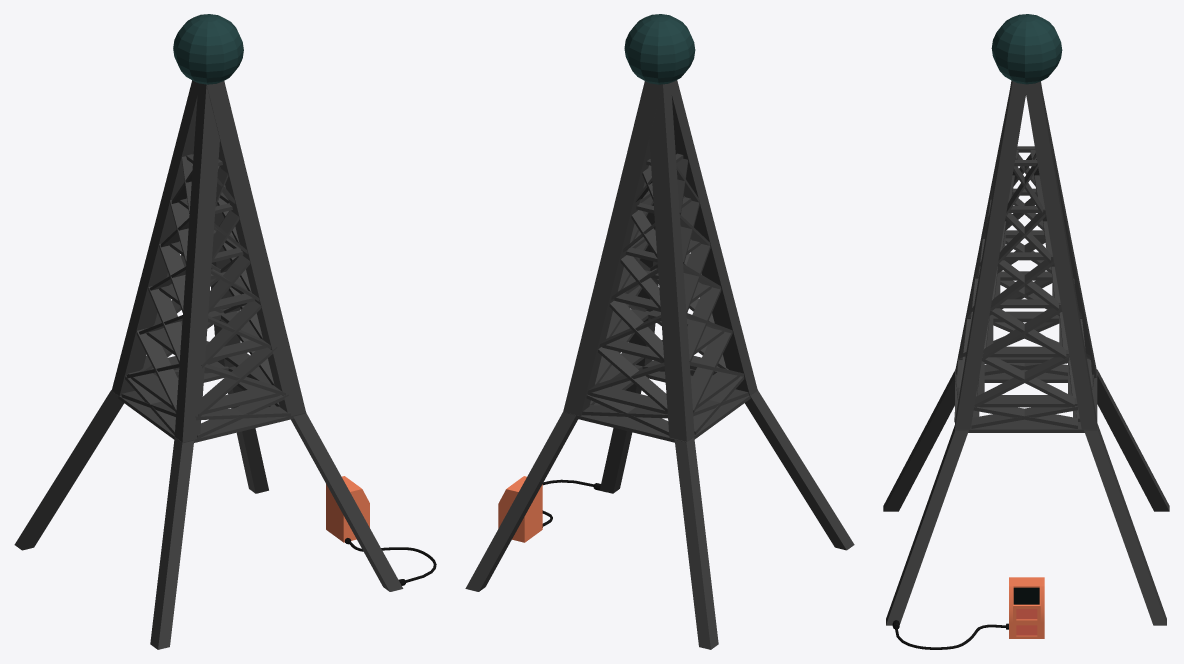
Rendered from Relay.obj.
The picture shows the model from 3 angles, left to right: view 1: azimuth 30°, elevation 25°; view 2: azimuth 150°, elevation 25°; view 3: azimuth 270°, elevation 25°; orthographic projection.
Visible parts, largest first — view 1: SUPPORT, METAL_PATTERN, polySurface60 TOWER, CONTROL_BOX; view 2: SUPPORT, METAL_PATTERN, polySurface60 TOWER, CONTROL_BOX; view 3: SUPPORT, METAL_PATTERN, polySurface60 TOWER, CONTROL_BOX, WIRE.
Boxes of the visible parts, x1,y1,x2,y2 form: SUPPORT: (14, 80, 403, 649); METAL_PATTERN: (111, 154, 306, 442); polySurface60 TOWER: (173, 14, 243, 84); CONTROL_BOX: (326, 476, 369, 542); SUPPORT: (465, 80, 854, 649); METAL_PATTERN: (563, 153, 757, 442); polySurface60 TOWER: (624, 14, 695, 84); CONTROL_BOX: (498, 476, 542, 542); SUPPORT: (883, 80, 1169, 625); METAL_PATTERN: (954, 146, 1097, 432); polySurface60 TOWER: (991, 14, 1062, 84); CONTROL_BOX: (1009, 577, 1044, 638); WIRE: (892, 620, 1008, 649).
Size of the model in its own units: 19 by 33.54 by 15.82.
